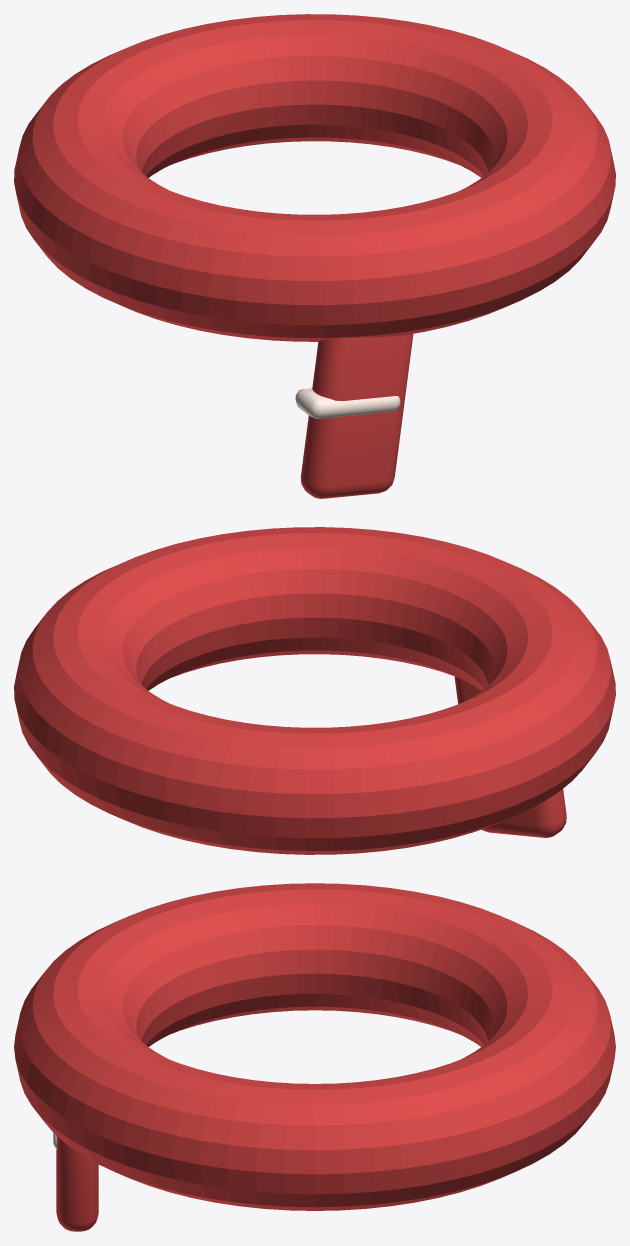
Rendered from check_scarf.fbx.
3 renders of one model, top to bottom at view 1: azimuth 30°, elevation 25°; view 2: azimuth 150°, elevation 25°; view 3: azimuth 270°, elevation 25°, orthographic.
Visible parts, largest first — view 1: Torus009, ChamferBox001, ChamferBox002; view 2: Torus009, ChamferBox001; view 3: Torus009, ChamferBox001.
Part boxes in pixels (x1,y1,x2,y2): Torus009: (14,14,615,341); ChamferBox001: (300,334,413,498); ChamferBox002: (295,388,400,418); Torus009: (14,527,615,854); ChamferBox001: (454,676,566,837); Torus009: (14,883,615,1210); ChamferBox001: (56,1136,98,1231).
Bounding box in the file's own units: 14.2 × 7 × 14.2.
